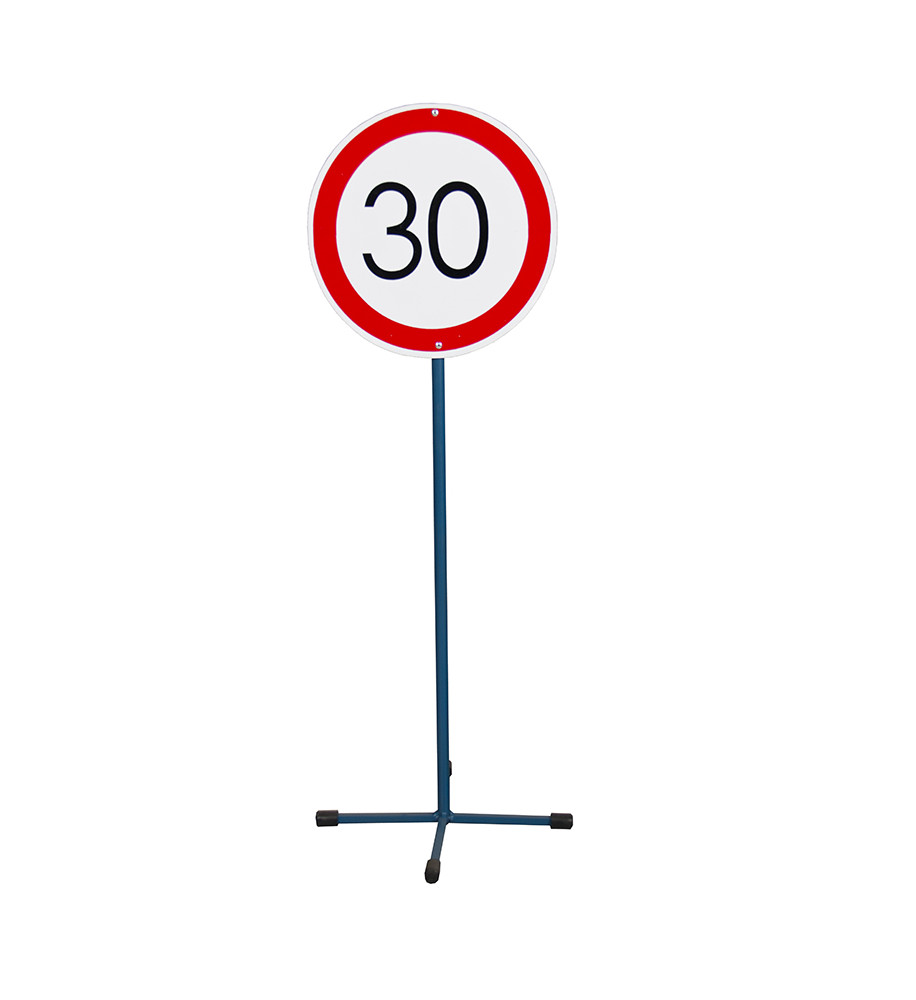30 Km Hiz Siniri: (305, 97, 583, 347)
